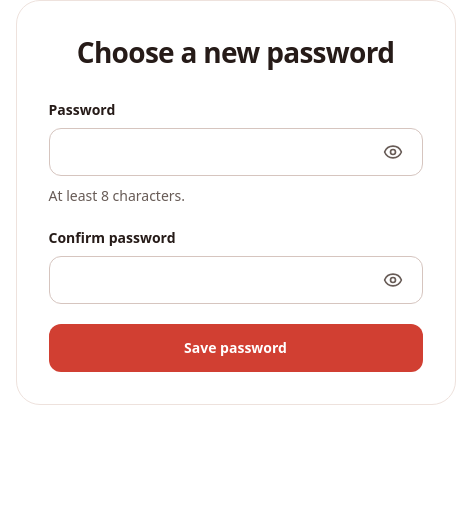
removes the fragment, survives strict mode and never consumes a link on mount
The image size is (473, 514).
Type "abcdefgh" into the password field labelled "Password" at [236, 152], box [48,128,422,176]
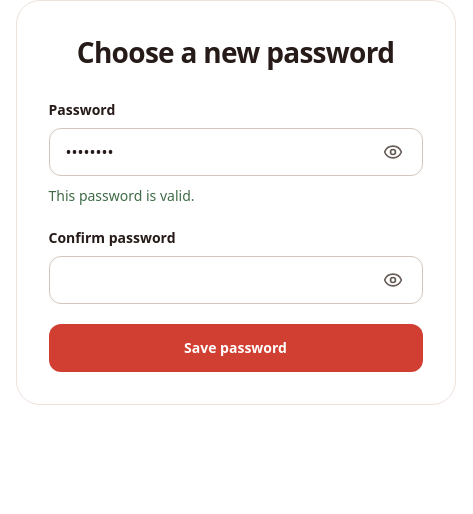
Type "abcdefgh" into the password field labelled "Confirm password" at [236, 280], box [48,256,422,304]
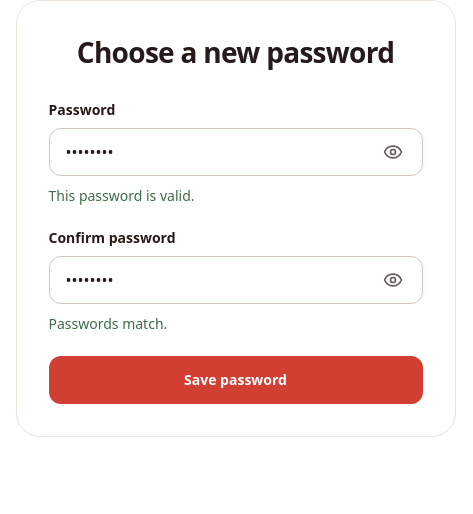
Click the button "Save password" at [236, 380], box [48,356,422,404]
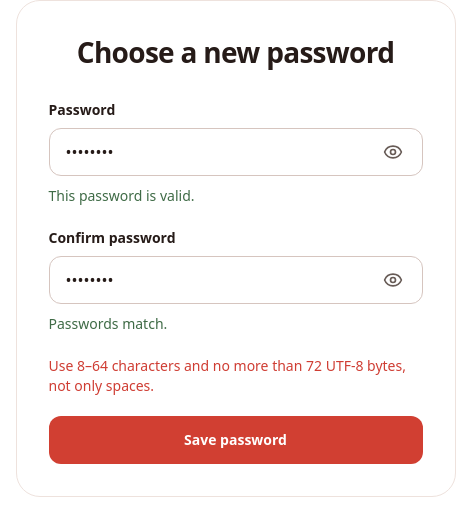
Expected: the button "Save password" is enabled, [48,416,422,464]
Now the message "Use 8–64 characters and no more than 72 UTF-8 bytes, not only spaces." is shown, box [48,356,422,396]
